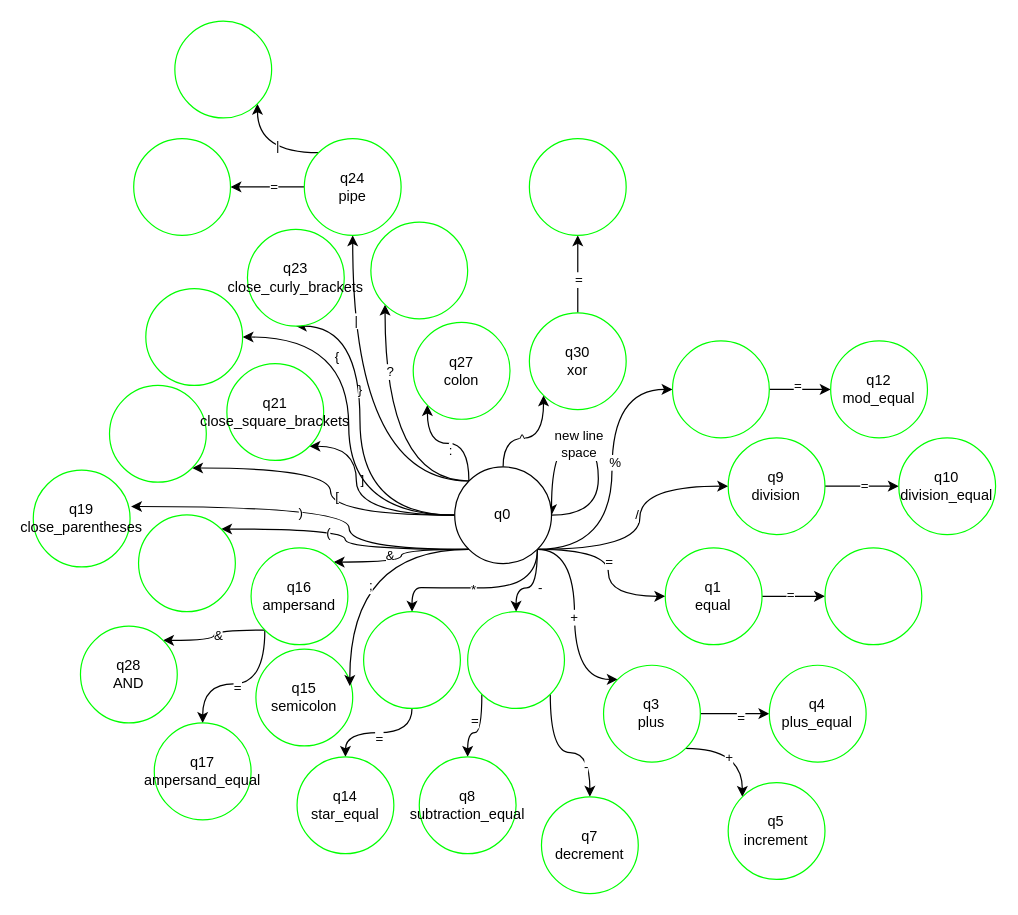
This 1018x915 diagram has some shape labels left out. Each missing label, with the centre of its shape:
"q11 mod" goes at [720,389].
"q13 star" goes at [411,659].
"q18 open_parentheses" goes at [186,563].
"q2 is_equal" goes at [873,596].
"q20 open_square_brackets" goes at [157,433].
"q22 open_curly_brackets" goes at [194,336].
"q25 pipe_equal" goes at [181,186].
"q26 question_mark" goes at [419,270].
"q29 OR" goes at [223,69].
"q31 xor_equal" goes at [577,186].
"q6 subtraction" goes at [515,659].
